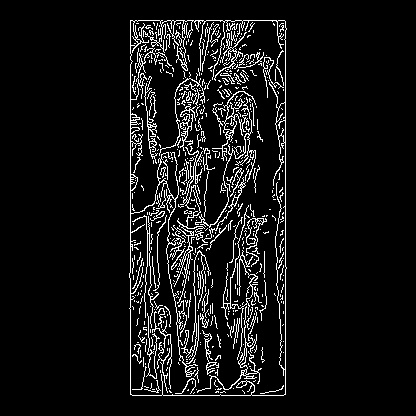buddha-standing: (83, 236, 187, 316)
